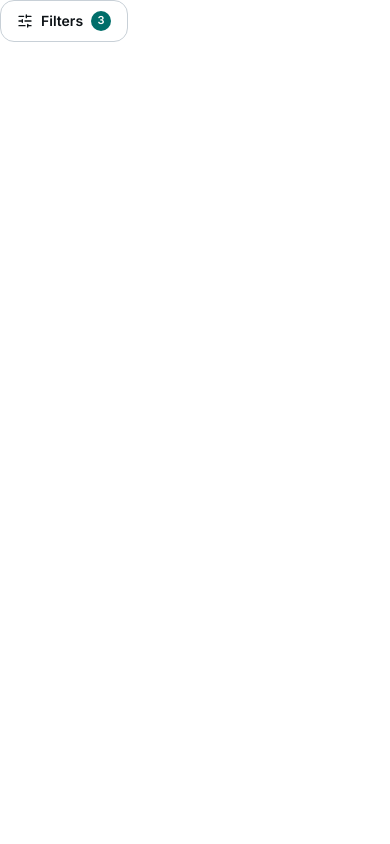
it: MarketplaceMobileFilterDrawer › reports the active-filter count on the trigger and opens a dialog
The width and height of the screenshot is (390, 844).
Step 1. Click the button "Filters 3" → (64, 21), box [0,0,128,42]
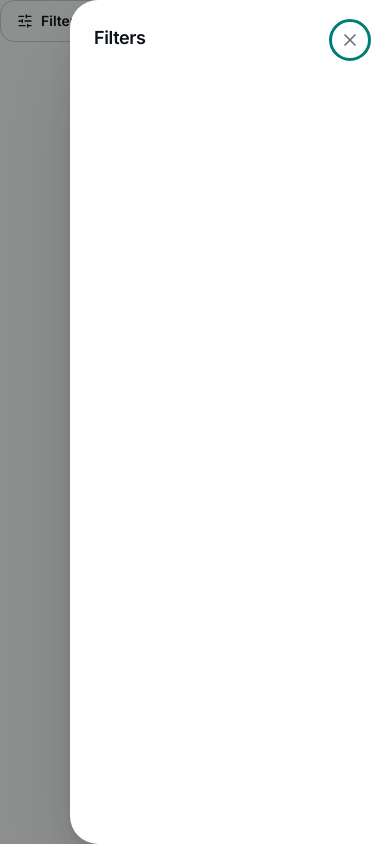
Now the dialog is shown
